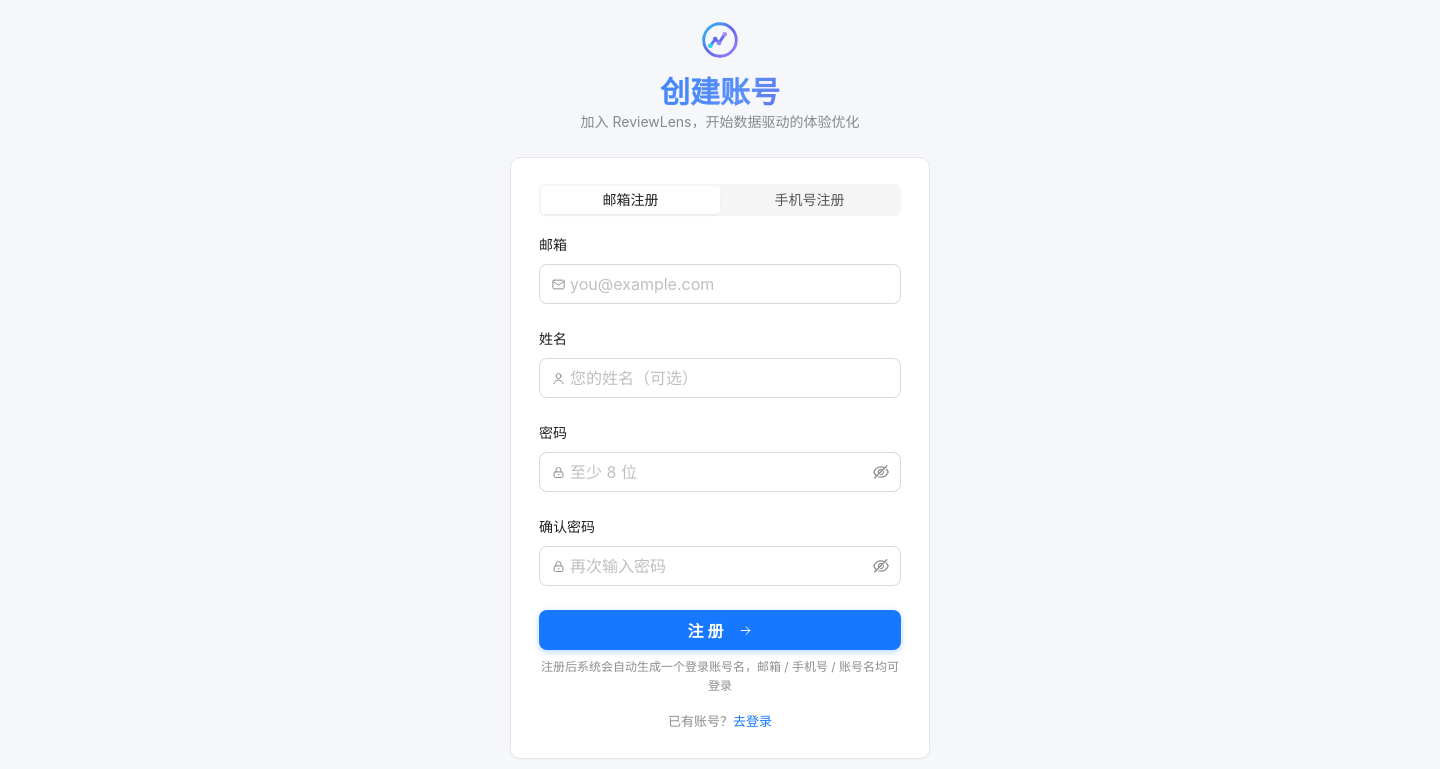
Test case: RegisterPage › 两次密码不一致时校验失败
Type "a@b.com" into the field with placeholder "you@example.com" at x=730, y=284, box [570,272,889,296]
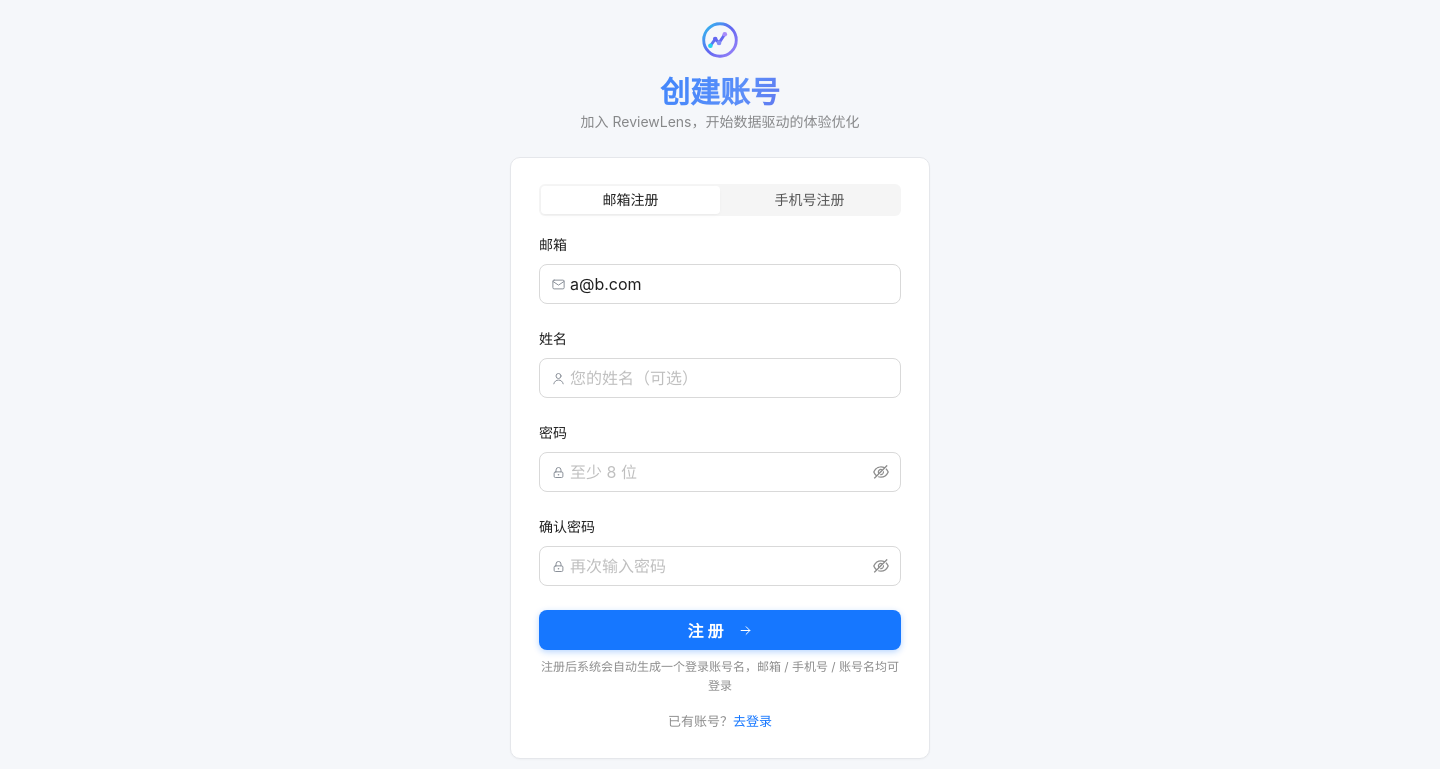
Type "password123" into the password field with placeholder "至少 8 位" at x=720, y=472, box [570,460,869,484]
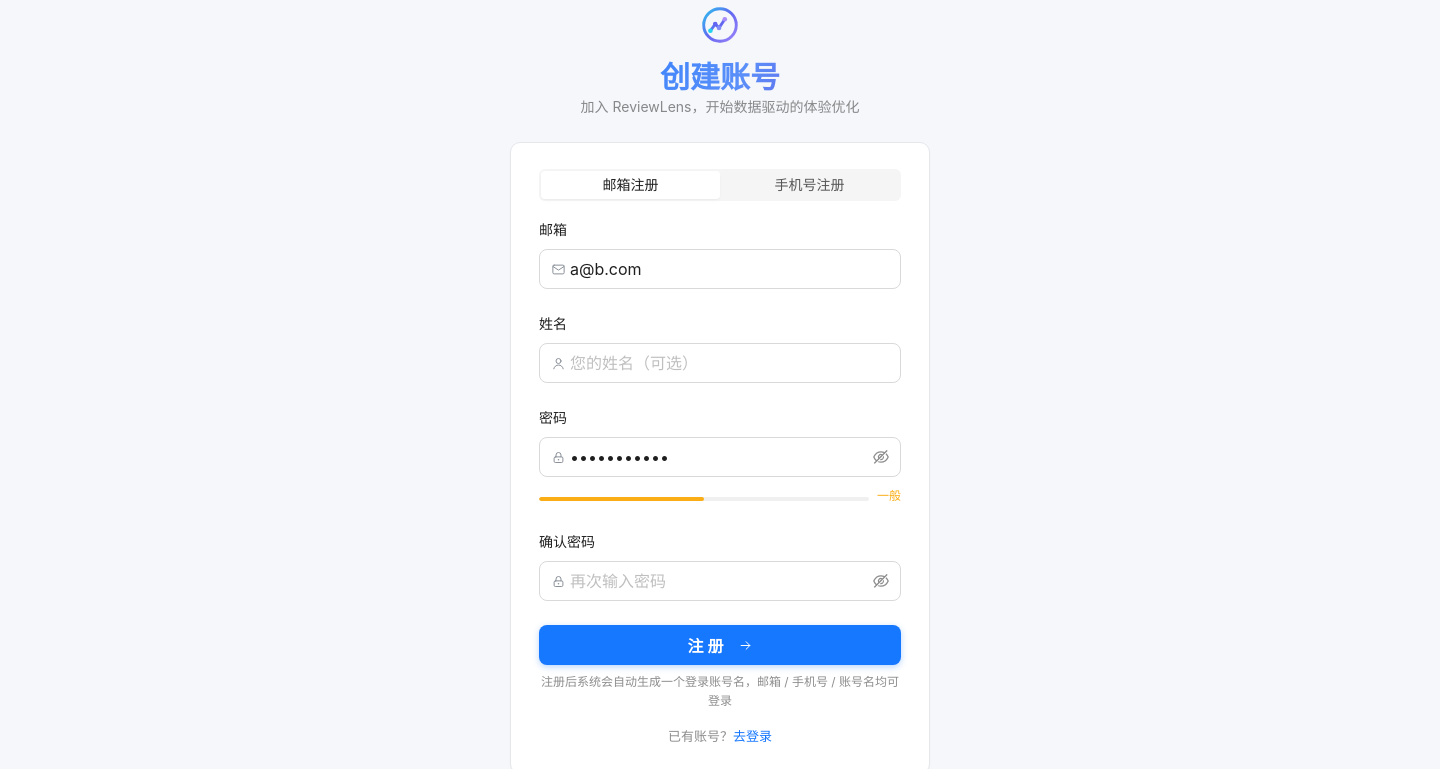
Type "different" into the password field with placeholder "再次输入密码" at x=720, y=581, box [570,569,869,593]
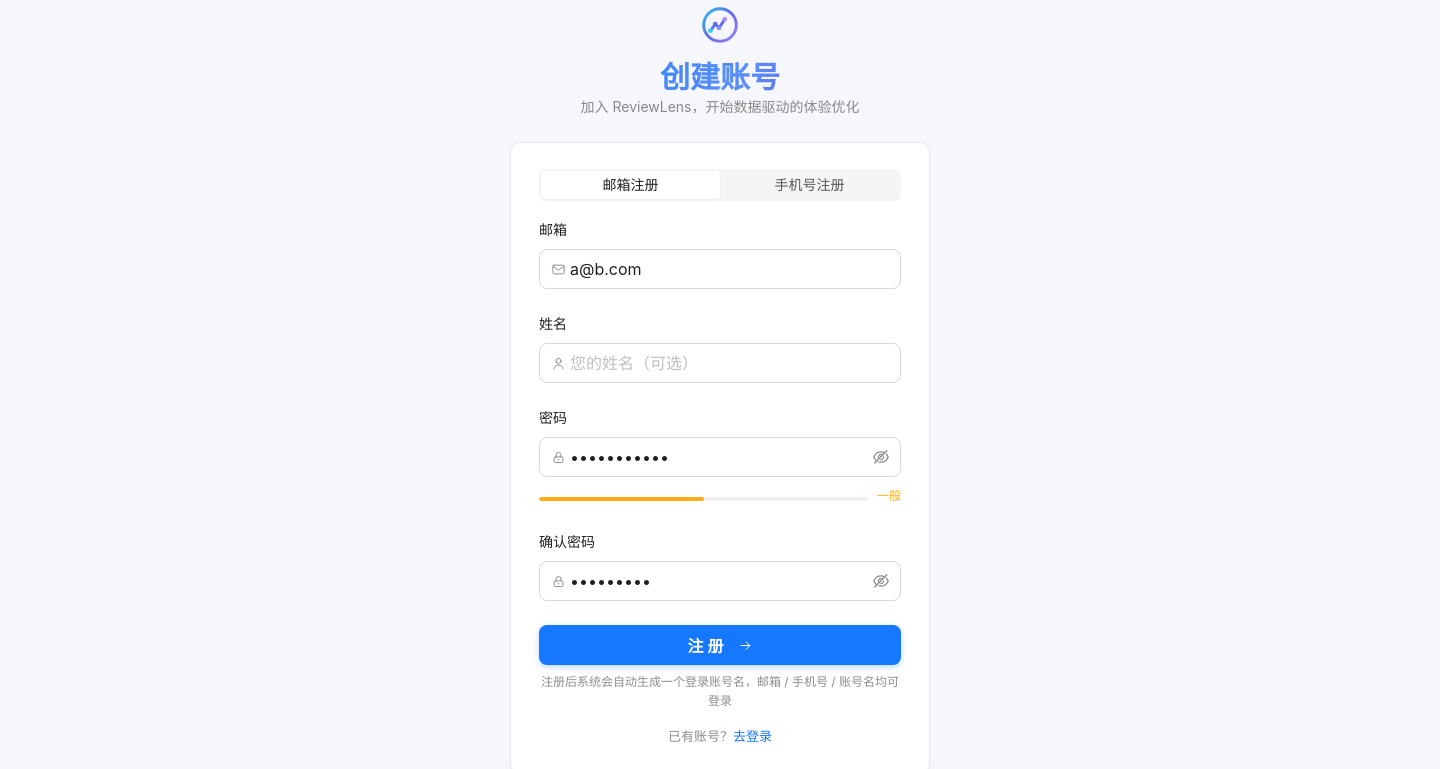
Click the button "注 册" at x=720, y=645, box [539,625,901,665]
(page scrolled)
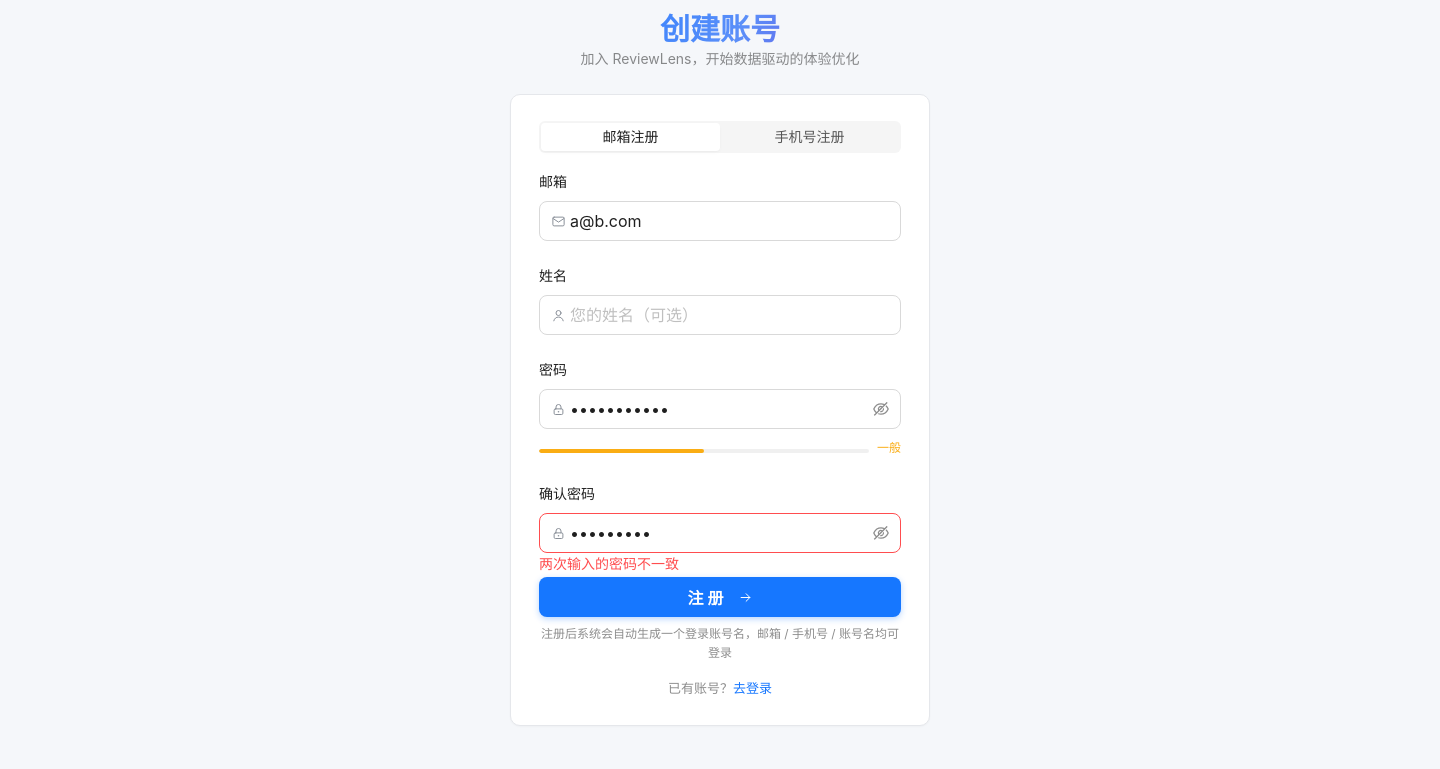
Check: the text "两次输入的密码不一致" is shown, box [539,555,679,572]
